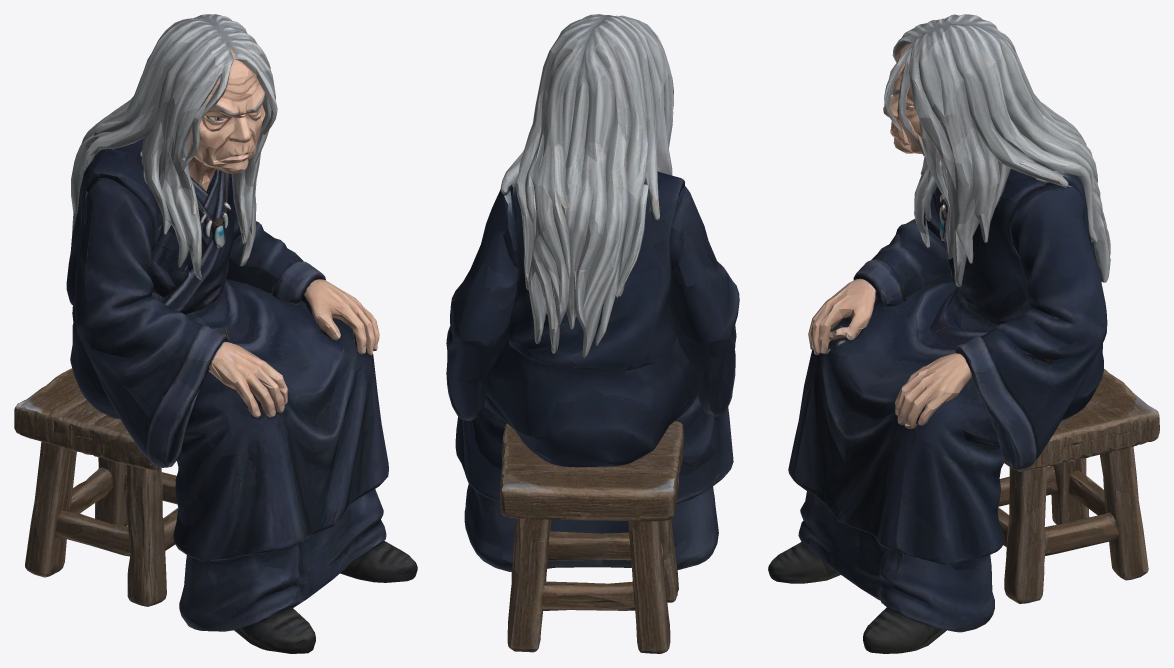
The model's file is hama.glb.
The picture shows the model from 3 angles, left to right: view 1: azimuth 30°, elevation 25°; view 2: azimuth 150°, elevation 25°; view 3: azimuth 270°, elevation 25°; orthographic projection.
Parts seen in each view (by area): view 1: Mesh_0; view 2: Mesh_0; view 3: Mesh_0.
Part boxes in pixels (left/top/right/bottom): Mesh_0: left=14, top=14, right=417, bottom=653; Mesh_0: left=446, top=14, right=739, bottom=653; Mesh_0: left=768, top=14, right=1159, bottom=653.
Size of the model in its own units: 1.05 by 1.9 by 1.21.
1 material, 1 textured.
